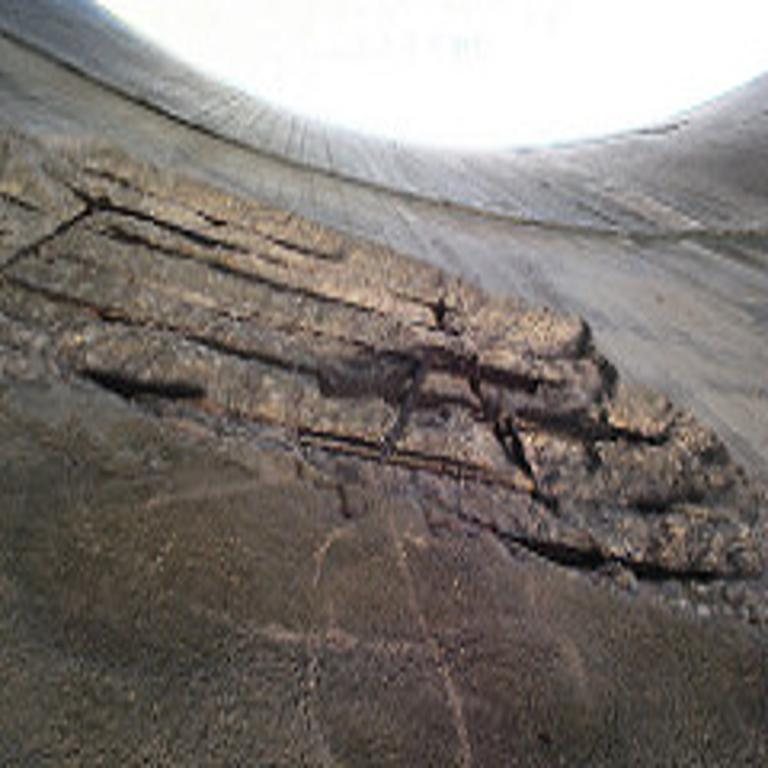damage: (0, 108, 768, 640)
